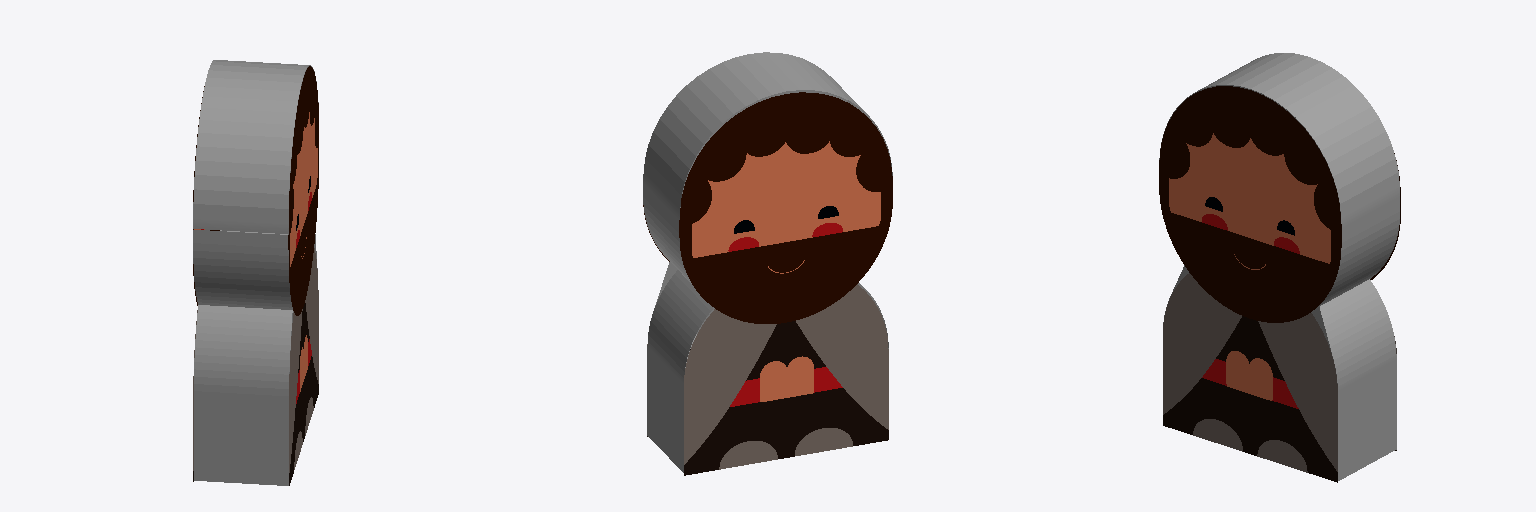
File: svgImage_2.obj
The picture shows the model from 3 angles: view 1: azimuth 30°, elevation 25°; view 2: azimuth 150°, elevation 25°; view 3: azimuth 270°, elevation 25°; orthographic projection.
Visible parts, largest first — view 1: Curve.017_CUCurve.017, Curve.012_CUCurve.012, Curve.008_CUCurve.008, Curve.002_CUCurve.002, Curve.006_CUCurve.006, Curve.007_CUCurve.007; view 2: Curve.022_CUCurve.021, Curve.017_CUCurve.017, Curve.026_CUCurve.025, Curve.032_CUCurve.031, Curve.027_CUCurve.026, Curve.028_CUCurve.027, Curve.029_CUCurve.028, Curve.034_CUCurve.033, Curve.019_CUCurve.034, Curve.018_CUCurve.018, Curve.030_CUCurve.029; view 3: Curve.017_CUCurve.017, Curve.012_CUCurve.012, Curve.008_CUCurve.008, Curve.002_CUCurve.002, Curve.006_CUCurve.006, Curve.007_CUCurve.007, Curve.005_CUCurve.005, Curve_CUCurve, Curve.016_CUCurve.016, Curve.015_CUCurve.015.
Part boxes in pixels (bbox=[...]): Curve.017_CUCurve.017: bbox=[193, 60, 318, 485]; Curve.012_CUCurve.012: bbox=[288, 66, 318, 315]; Curve.008_CUCurve.008: bbox=[290, 112, 317, 266]; Curve.002_CUCurve.002: bbox=[289, 356, 318, 485]; Curve.006_CUCurve.006: bbox=[305, 248, 318, 383]; Curve.007_CUCurve.007: bbox=[289, 309, 302, 472]; Curve.022_CUCurve.021: bbox=[679, 92, 892, 323]; Curve.017_CUCurve.017: bbox=[643, 52, 892, 472]; Curve.026_CUCurve.025: bbox=[692, 141, 880, 257]; Curve.032_CUCurve.031: bbox=[684, 388, 888, 475]; Curve.027_CUCurve.026: bbox=[796, 284, 888, 429]; Curve.028_CUCurve.027: bbox=[684, 309, 776, 464]; Curve.029_CUCurve.028: bbox=[760, 356, 813, 401]; Curve.034_CUCurve.033: bbox=[746, 321, 825, 380]; Curve.019_CUCurve.034: bbox=[719, 441, 777, 469]; Curve.018_CUCurve.018: bbox=[795, 428, 852, 455]; Curve.030_CUCurve.029: bbox=[730, 378, 759, 406]; Curve.017_CUCurve.017: bbox=[1159, 53, 1399, 480]; Curve.012_CUCurve.012: bbox=[1159, 86, 1341, 322]; Curve.008_CUCurve.008: bbox=[1169, 133, 1330, 263]; Curve.002_CUCurve.002: bbox=[1163, 378, 1337, 482]; Curve.006_CUCurve.006: bbox=[1258, 313, 1337, 471]; Curve.007_CUCurve.007: bbox=[1163, 273, 1241, 414]; Curve.005_CUCurve.005: bbox=[1226, 351, 1272, 400]; Curve_CUCurve: bbox=[1216, 316, 1284, 380]; Curve.016_CUCurve.016: bbox=[1193, 419, 1242, 451]; Curve.015_CUCurve.015: bbox=[1257, 440, 1307, 472].
Size of the model in its own units: 1.77 by 3.29 by 1.97.